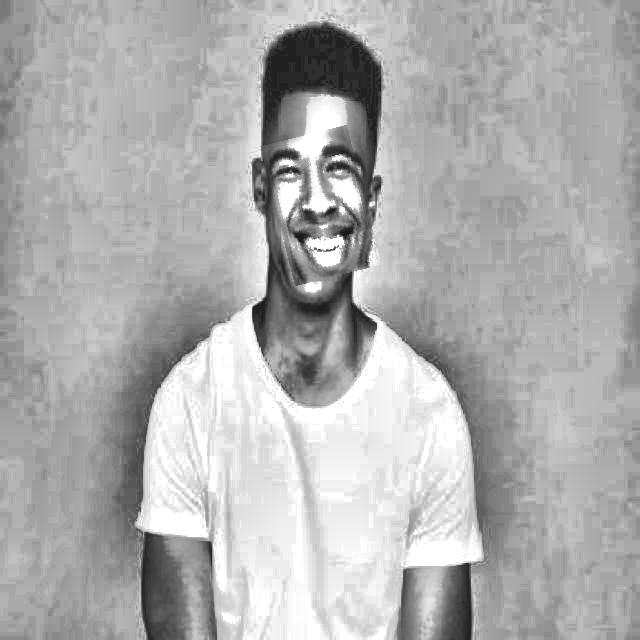happy: (268, 130, 373, 282)
